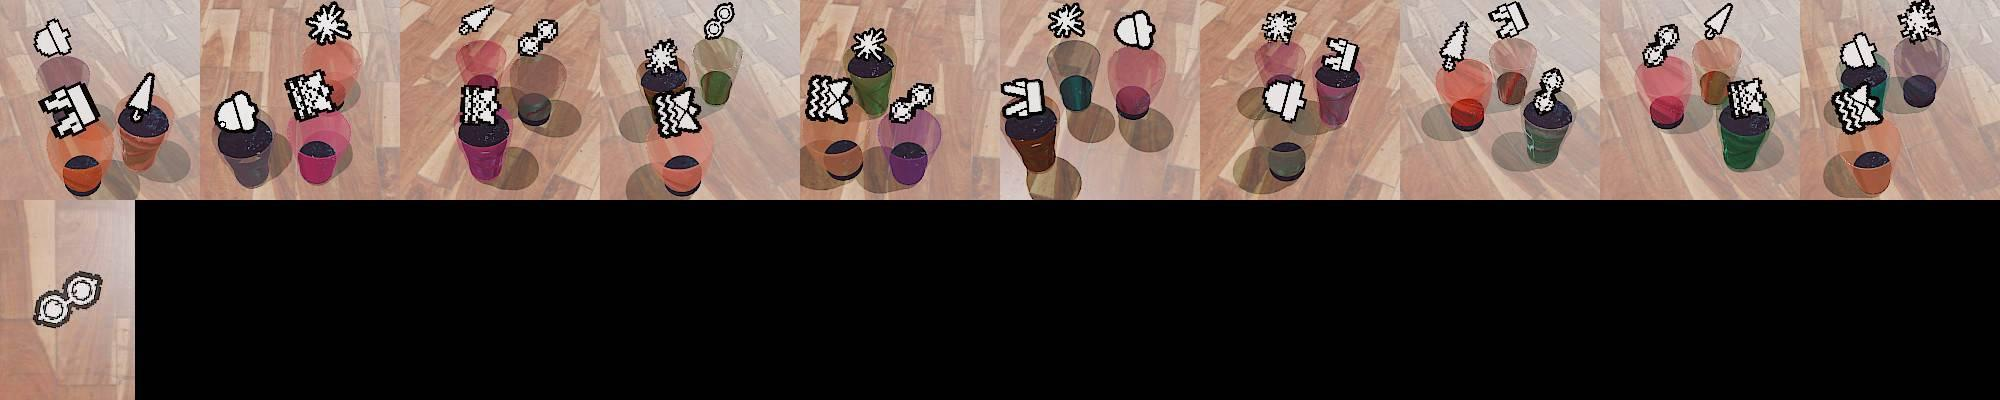icon: (32, 270, 105, 329), (38, 80, 102, 140), (283, 69, 339, 122), (649, 85, 704, 139), (1830, 83, 1885, 135), (804, 74, 853, 124), (1261, 79, 1309, 126), (1001, 76, 1050, 121), (459, 82, 504, 129), (304, 1, 351, 46), (885, 82, 934, 124), (216, 90, 260, 134), (1897, 0, 1940, 43), (1727, 76, 1769, 121), (517, 18, 560, 59), (1115, 9, 1157, 50), (1643, 22, 1680, 68), (33, 18, 73, 59), (1489, 0, 1529, 39), (1531, 68, 1564, 116), (1439, 19, 1469, 69), (1839, 32, 1878, 70), (1046, 3, 1085, 39), (849, 27, 888, 64), (126, 71, 156, 118), (643, 38, 680, 75), (1323, 36, 1358, 74), (1260, 9, 1298, 43), (703, 1, 736, 41), (459, 4, 495, 36), (1703, 3, 1732, 39)
